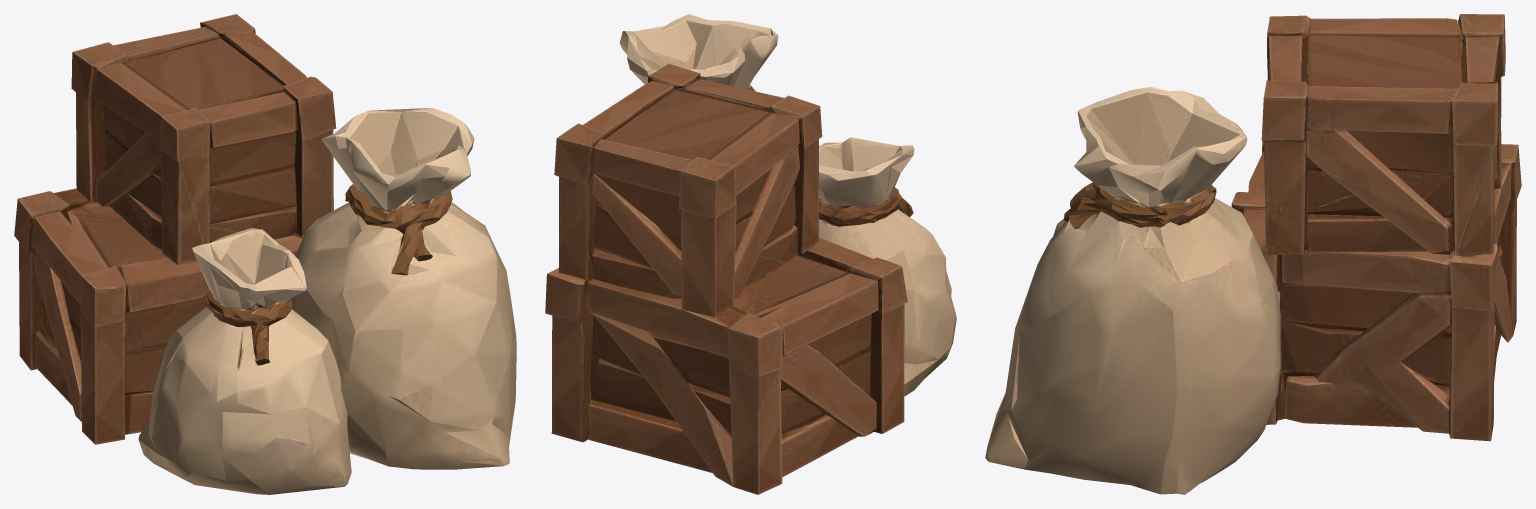
Rendered from crates-sacks.glb.
The picture shows the model from 3 angles, left to right: view 1: azimuth 30°, elevation 25°; view 2: azimuth 150°, elevation 25°; view 3: azimuth 270°, elevation 25°; orthographic projection. The views are drawn at different scales.
Size of the model in its own units: 1.65 by 1.33 by 1.9.
1 material, 1 textured.
